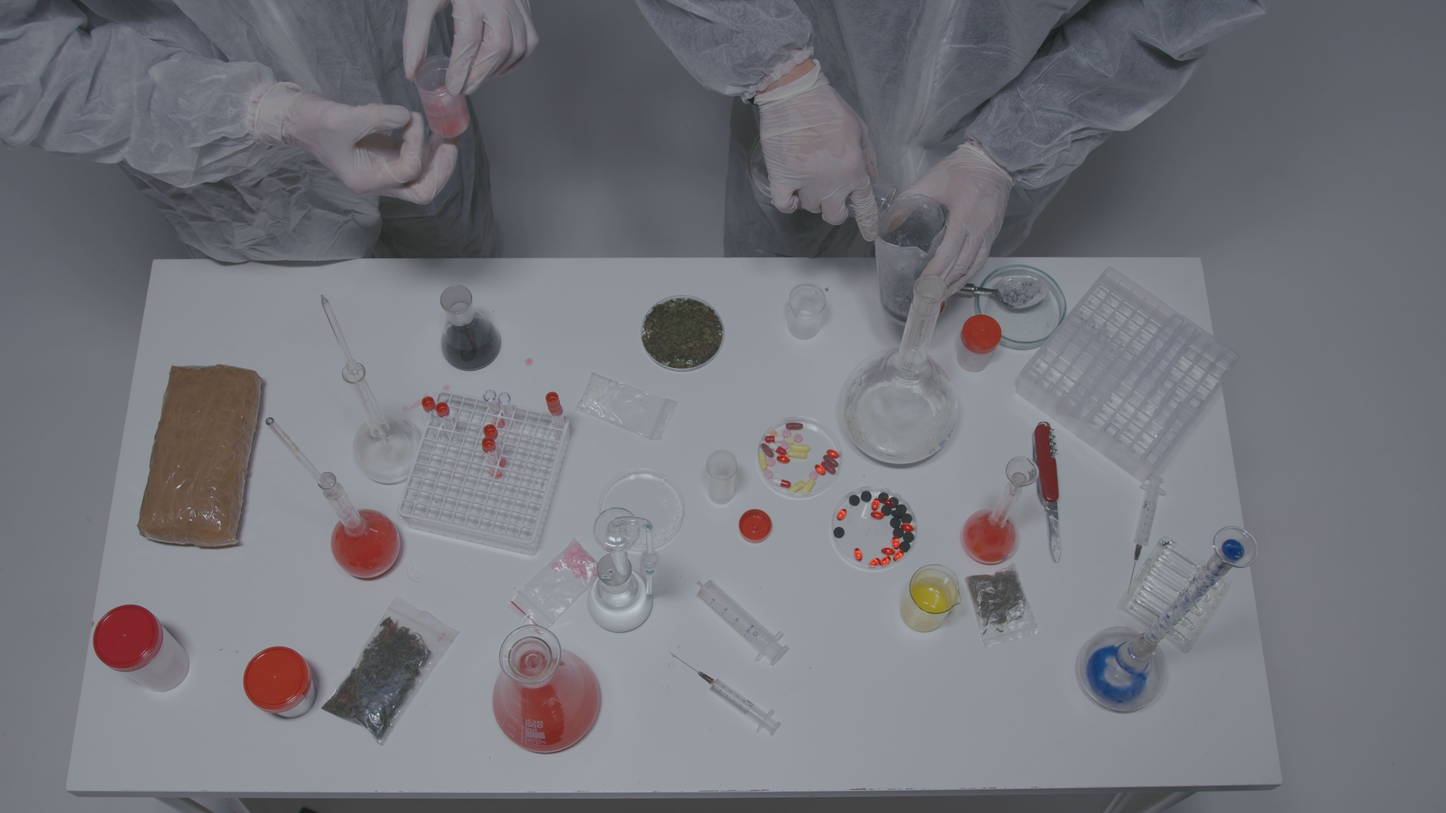gloves: (257, 74, 478, 220), (747, 63, 888, 261), (396, 0, 554, 122), (899, 137, 993, 324)
